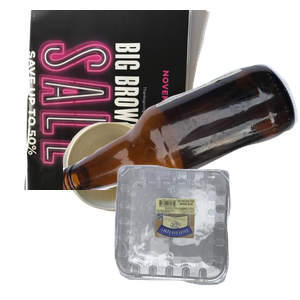glass: (63, 62, 300, 242)
paper: (22, 10, 225, 190)
plastic: (112, 162, 300, 300)
trash: (60, 120, 300, 300)
